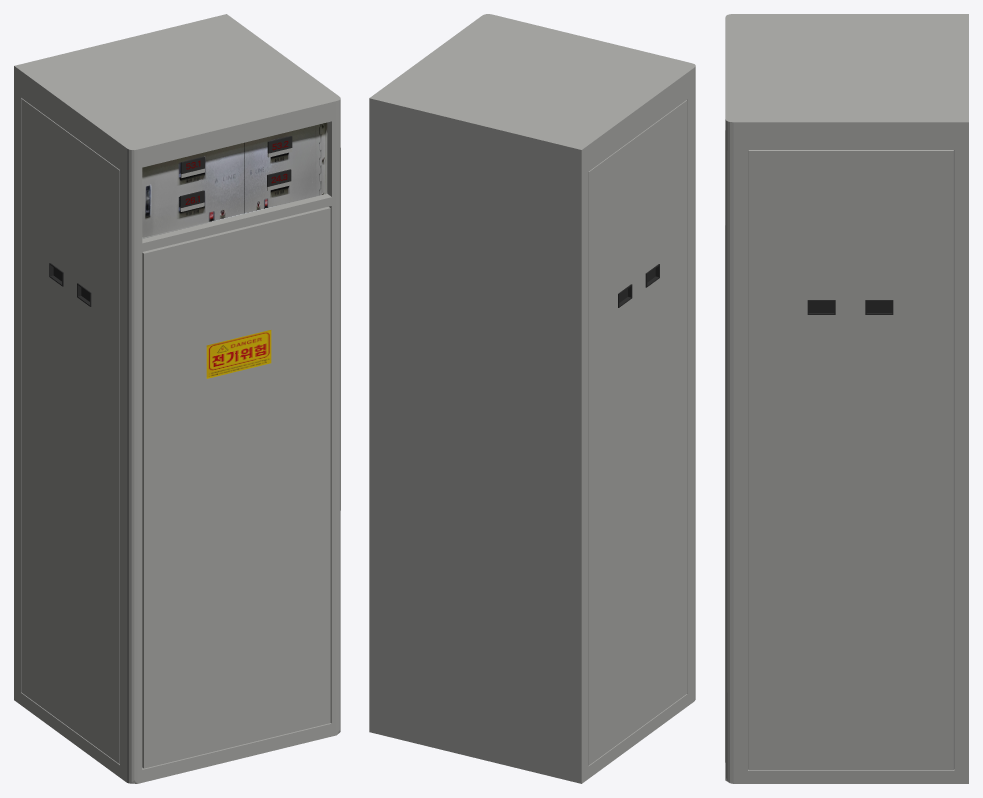
The picture shows the model from 3 angles, left to right: view 1: azimuth 30°, elevation 25°; view 2: azimuth 150°, elevation 25°; view 3: azimuth 270°, elevation 25°; orthographic projection. The views are drawn at different scales.
Parts seen in each view (by area): view 1: PDR(직류분전반) 80회로 이중화_KRN010; view 2: PDR(직류분전반) 80회로 이중화_KRN010; view 3: PDR(직류분전반) 80회로 이중화_KRN010.
Part boxes in pixels (x1,y1,x2,y2): PDR(직류분전반) 80회로 이중화_KRN010: [14, 14, 340, 783]; PDR(직류분전반) 80회로 이중화_KRN010: [369, 14, 695, 783]; PDR(직류분전반) 80회로 이중화_KRN010: [725, 14, 968, 783].
Size of the model in its own units: 0.6374 by 1.8 by 0.6033.
Materials: 5 (2 with a texture image).
